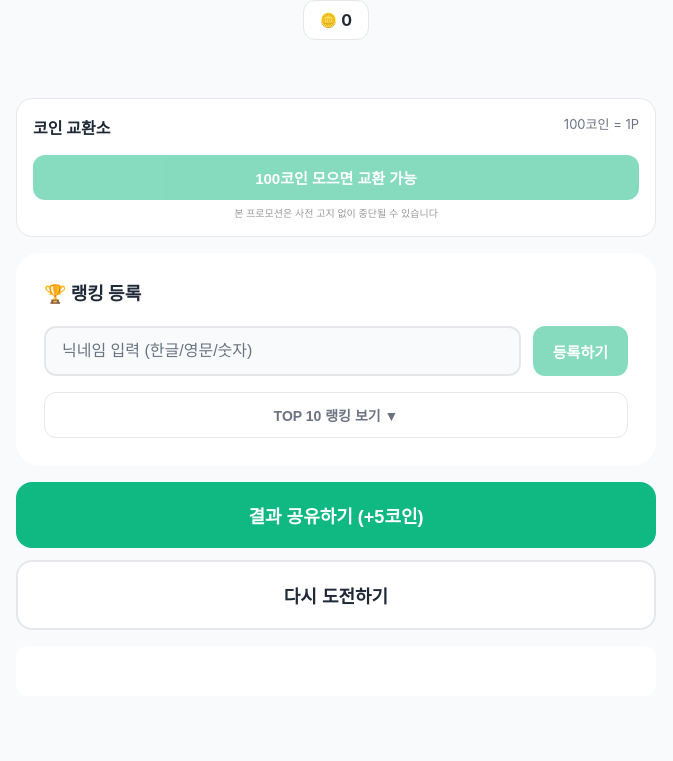
Test: ResultPage › 랭킹 목록 표시 › should show rankings list when toggled with data
(page scrolled)
Click the button "TOP 10 랭킹 보기 ▼". click: (336, 415)
box: [44,392,628,438]
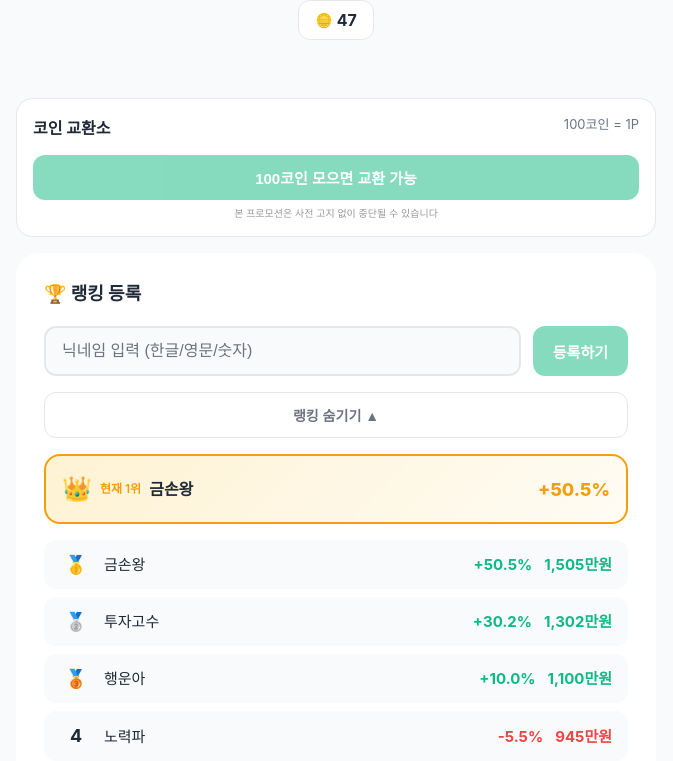
Result: the text "금손왕" next to "현재 1위" is shown at [149,479,193,499]
Result: the text "투자고수" is shown at [104,612,159,631]
Result: the text "행운아" is shown at [104,669,145,688]
